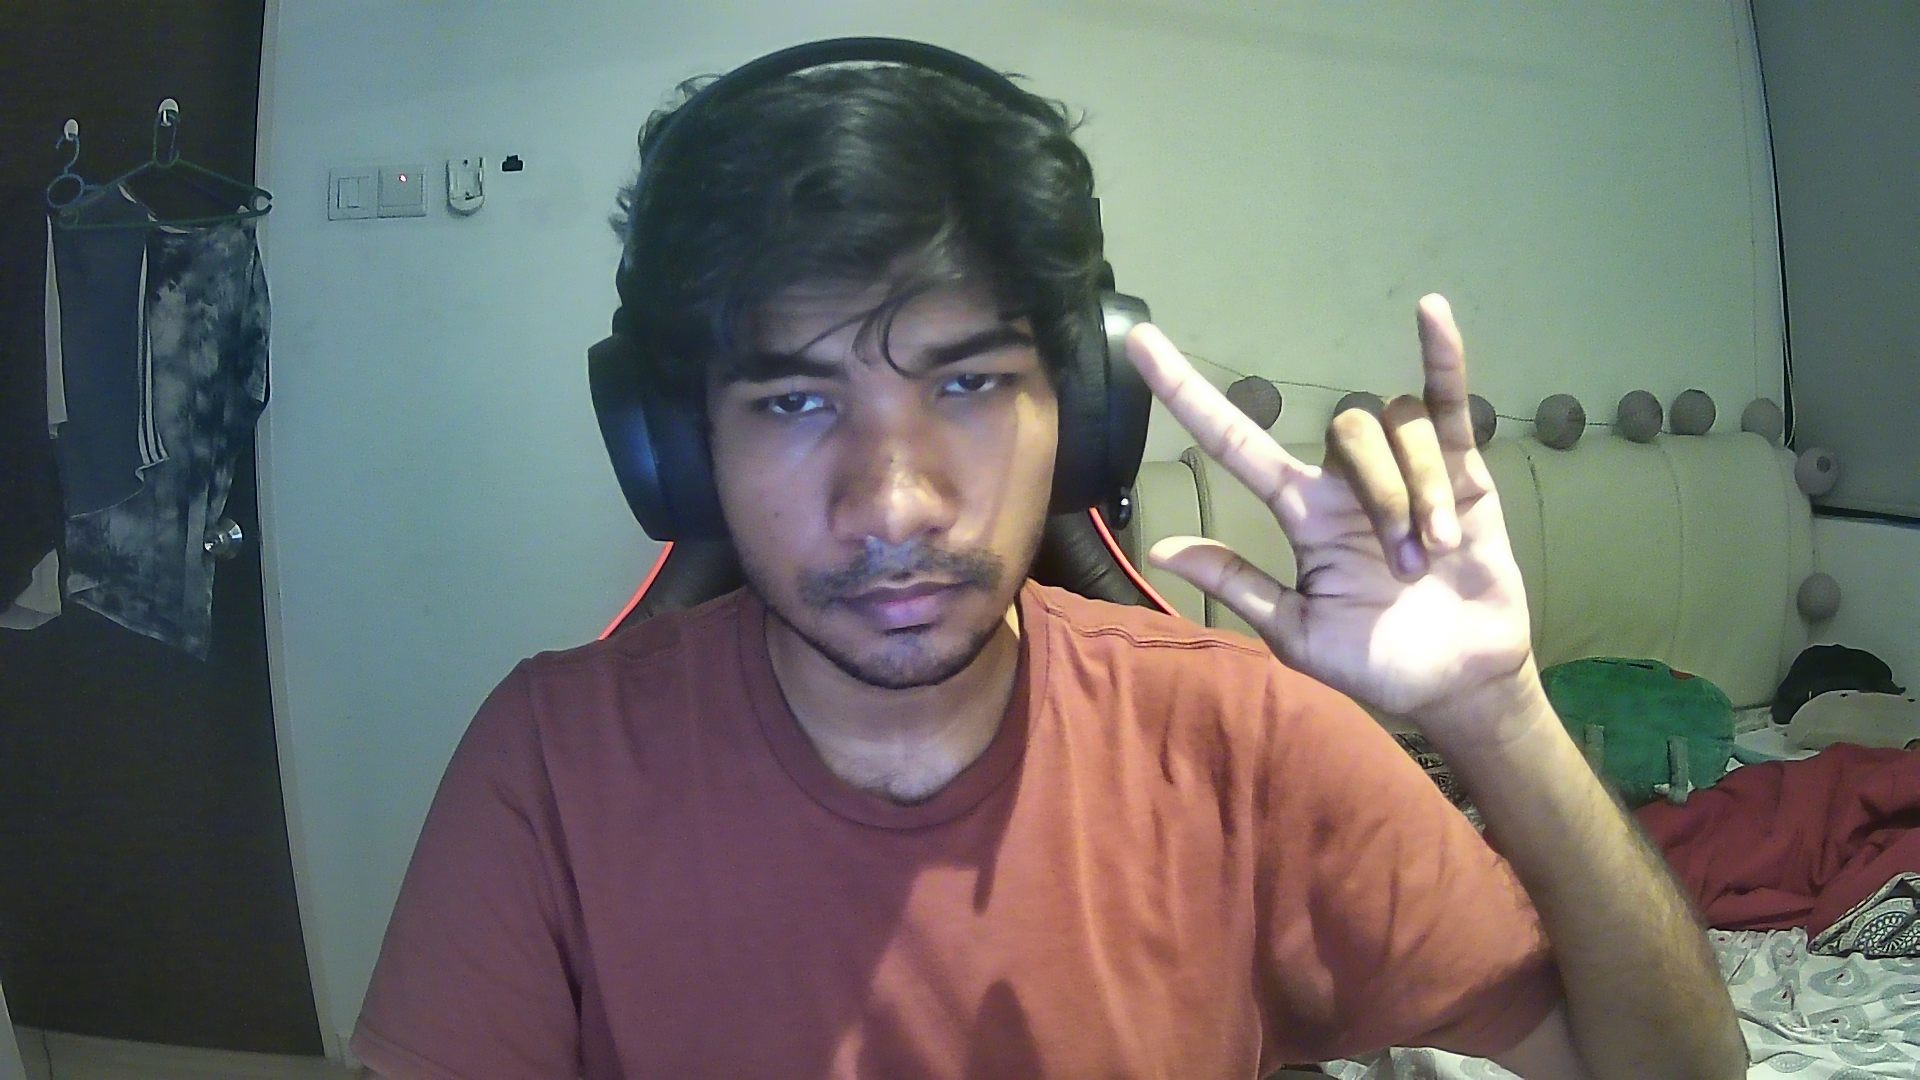I Love You: (1117, 290, 1560, 719)
